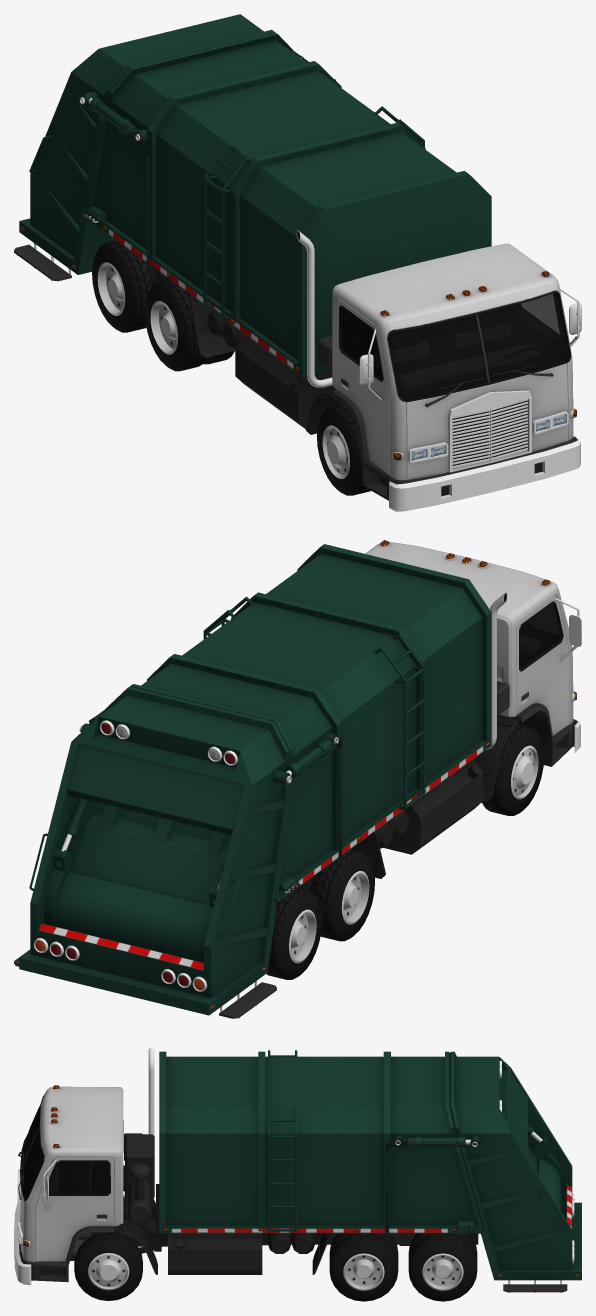
Rendered from garbage.glb.
The picture shows the model from 3 angles, top to bottom: view 1: azimuth 30°, elevation 25°; view 2: azimuth 150°, elevation 25°; view 3: azimuth 270°, elevation 25°; orthographic projection. The views are drawn at different scales.
Visible parts, largest first — view 1: Body (×2), TyreRim (×3), Door skin and glass (×3), Dashboard, Lamp head, Seat back; view 2: Body, TyreRim (×3), Door skin and glass (×2), Lamp brake; view 3: Body (×2), TyreRim (×3), Door skin and glass (×2).
Part boxes in pixels (x1,y1,x2,y2): Body (×2): (14, 14, 580, 511); TyreRim (×3): (92, 240, 370, 495); Door skin and glass (×3): (335, 250, 581, 471); Dashboard: (397, 343, 539, 388); Lamp head: (393, 286, 576, 460); Seat back: (453, 323, 510, 347); Body: (14, 542, 581, 1018); TyreRim (×3): (266, 723, 544, 979); Door skin and glass (×2): (518, 583, 581, 737); Lamp brake: (35, 723, 297, 1009); Body (×2): (14, 1047, 581, 1292); TyreRim (×3): (74, 1232, 477, 1301); Door skin and glass (×2): (31, 1148, 108, 1259).
Size of the model in its own units: 2.57 by 2.77 by 7.5.
6 materials, 5 textured.
